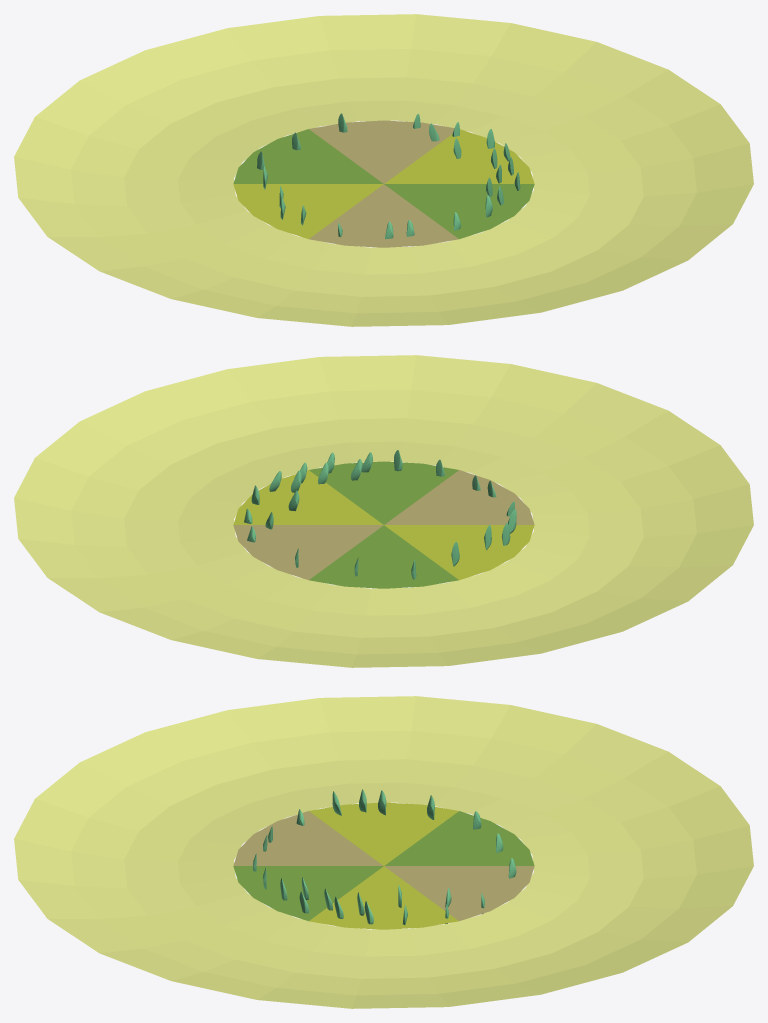
Rendered from map.glb.
The picture shows the model from 3 angles, top to bottom: view 1: azimuth 30°, elevation 25°; view 2: azimuth 150°, elevation 25°; view 3: azimuth 270°, elevation 25°; orthographic projection.
Visible parts, largest first — view 1: background, Biomes, trees; view 2: background, Biomes, trees; view 3: background, Biomes, trees.
Boxes of the visible parts, x1=… form: background: x1=14, y1=14, x2=753, y2=326; Biomes: x1=233, y1=120, x2=534, y2=247; trees: x1=257, y1=113, x2=520, y2=239; background: x1=14, y1=355, x2=753, y2=667; Biomes: x1=233, y1=461, x2=534, y2=588; trees: x1=244, y1=450, x2=516, y2=579; background: x1=14, y1=696, x2=753, y2=1008; Biomes: x1=233, y1=802, x2=534, y2=929; trees: x1=253, y1=789, x2=516, y2=924.
Size of the model in its own units: 491 by 26.1 by 491.
